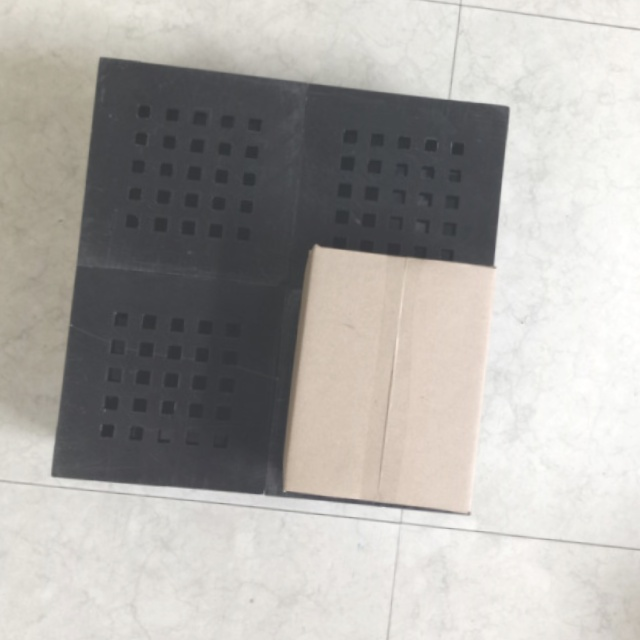box: (278, 246, 498, 516)
pallet: (44, 52, 523, 527)
